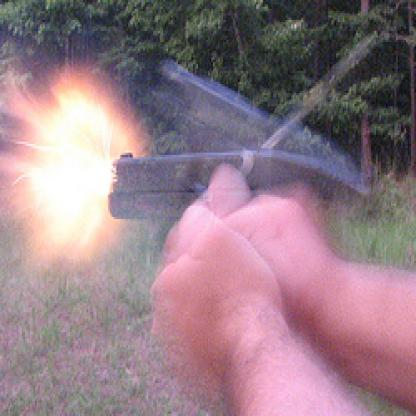gun: (80, 55, 323, 336)
